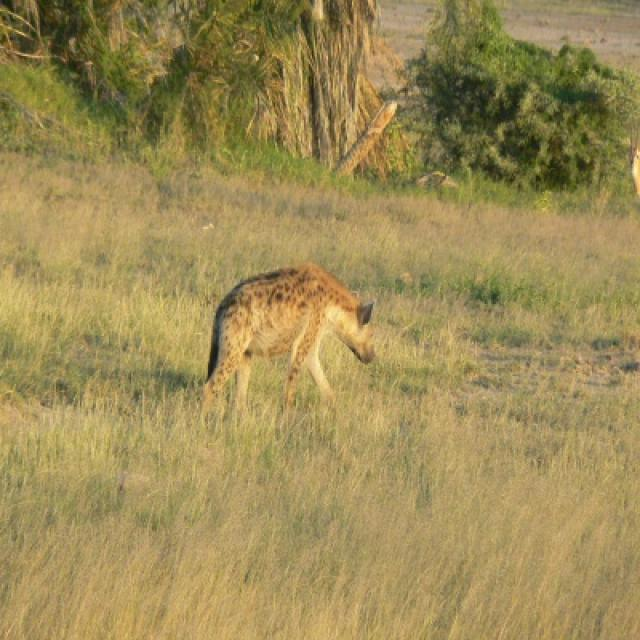hyena: (203, 262, 374, 406)
